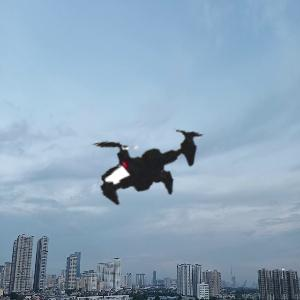drone: (61, 72, 233, 244)
